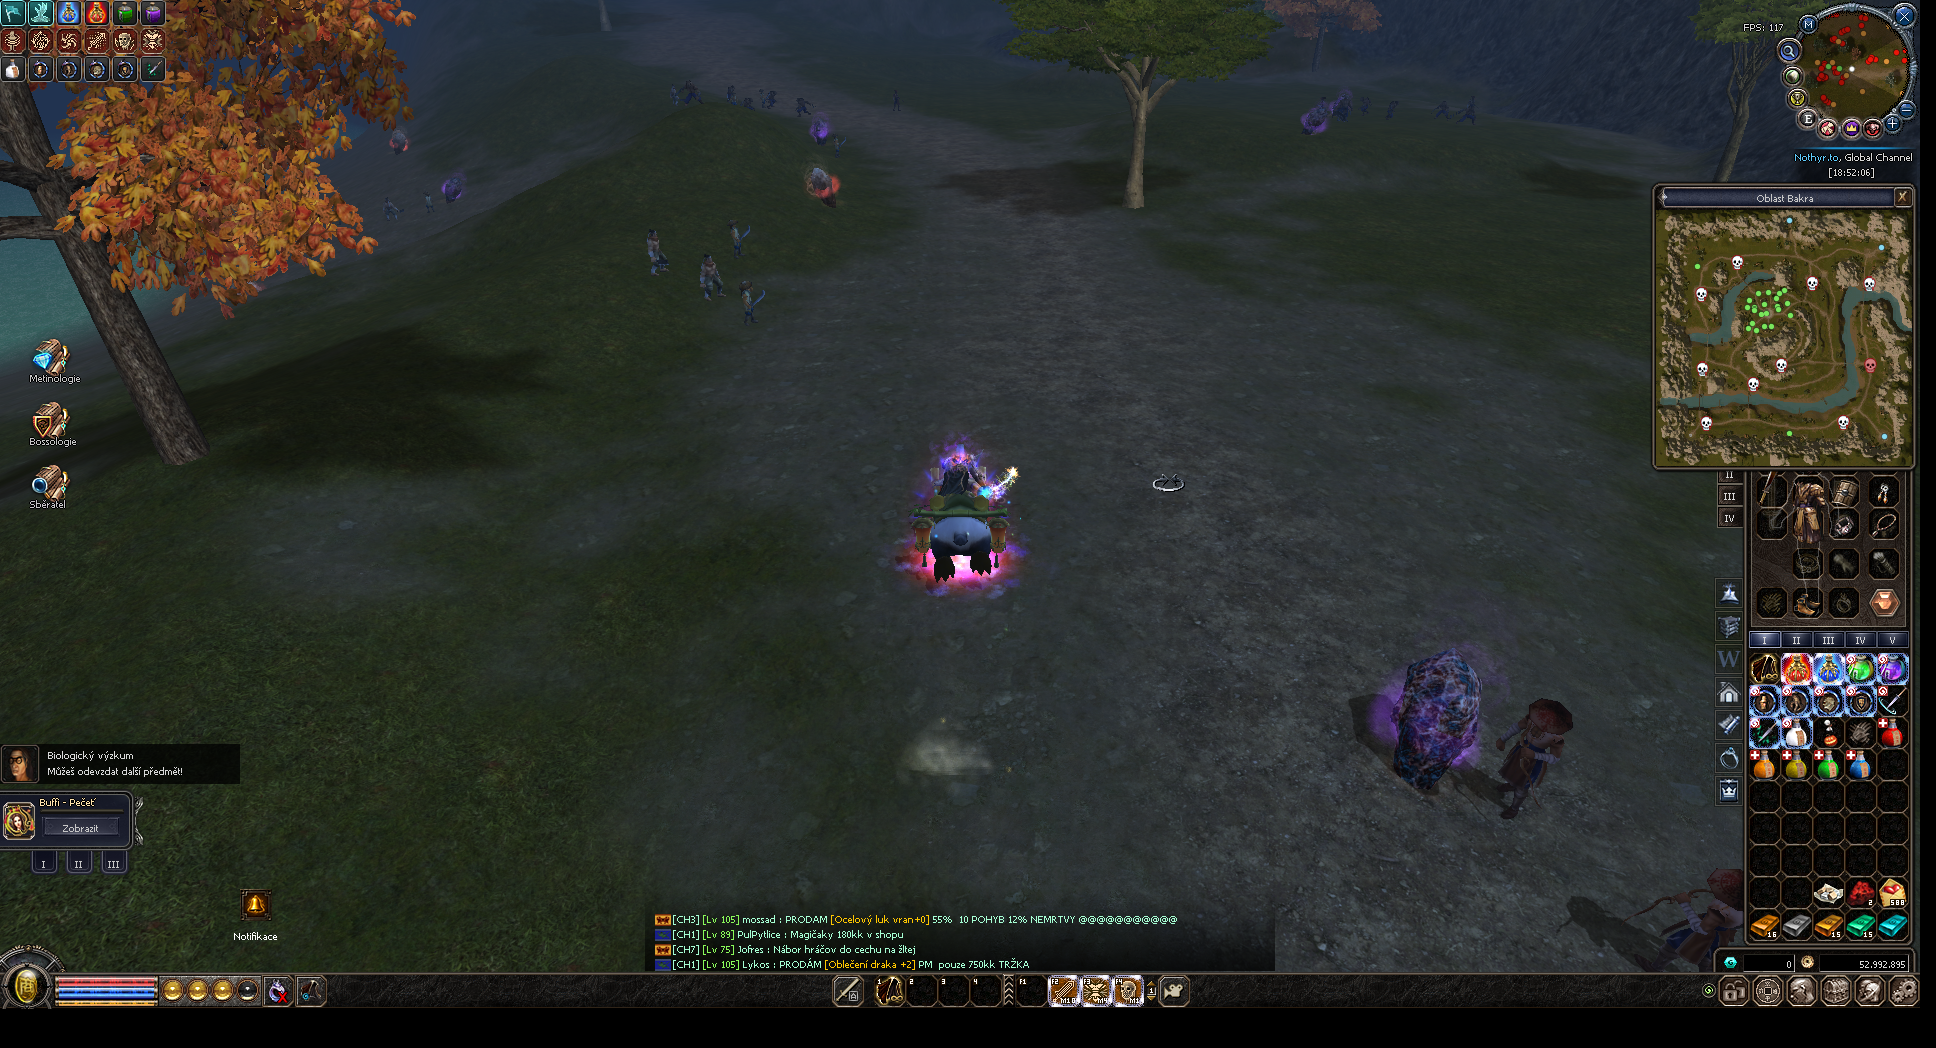Buff: (1389, 650, 1480, 790), (807, 166, 835, 199), (441, 170, 465, 203), (1300, 107, 1326, 134), (811, 114, 830, 143), (388, 128, 409, 154), (1333, 96, 1346, 110)
Enemy: (1633, 869, 1744, 972), (1496, 700, 1573, 820), (647, 228, 671, 276), (740, 281, 765, 324), (700, 254, 723, 301), (729, 219, 752, 258), (1456, 97, 1477, 126), (1333, 92, 1351, 121), (685, 80, 703, 105), (383, 197, 401, 221), (796, 97, 813, 116), (834, 138, 848, 157), (1437, 99, 1451, 119), (670, 84, 680, 107), (764, 90, 777, 108), (423, 191, 434, 213), (892, 89, 901, 112), (1386, 99, 1398, 117), (725, 85, 736, 105), (742, 96, 754, 108), (1360, 99, 1369, 111)
Me: (915, 457, 1007, 581)
